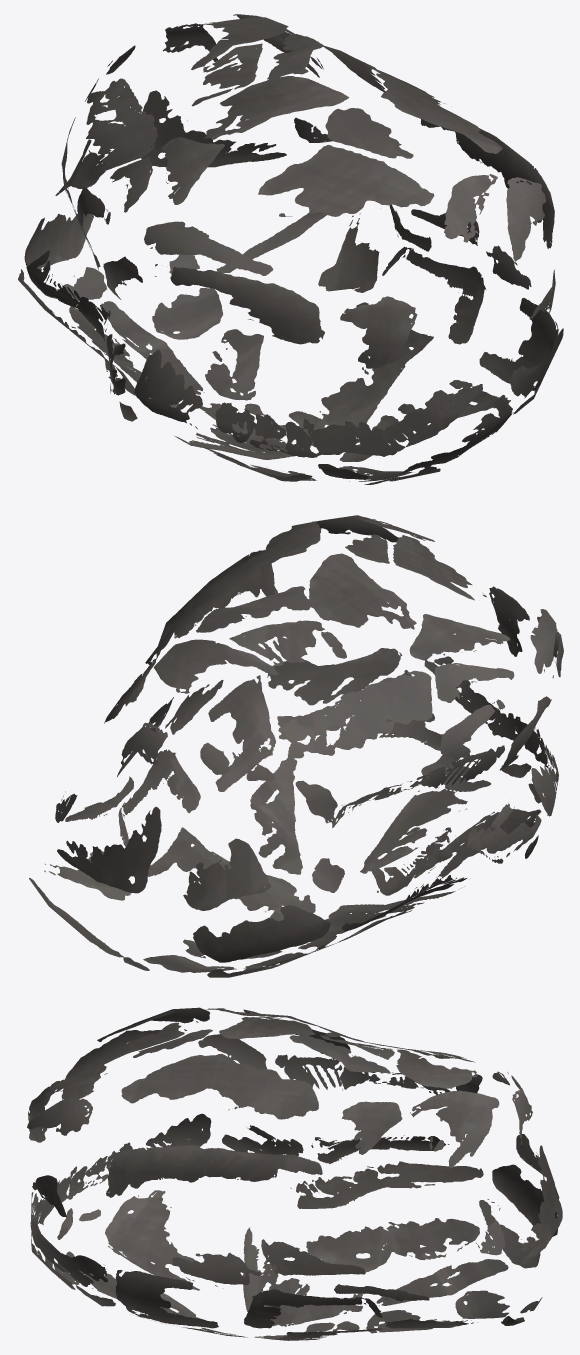
File: SM_ENV_LKNVLD_RockMiddle_A.FBX
3 renders of one model, top to bottom at view 1: azimuth 30°, elevation 25°; view 2: azimuth 150°, elevation 25°; view 3: azimuth 270°, elevation 25°, orthographic. The views are drawn at different scales.
Visible parts, largest first — view 1: SM_ENV_LKNVLD_RockMiddle_A; view 2: SM_ENV_LKNVLD_RockMiddle_A; view 3: SM_ENV_LKNVLD_RockMiddle_A.
Boxes of the visible parts, bbox=[...] form: SM_ENV_LKNVLD_RockMiddle_A: bbox=[18, 14, 563, 484]; SM_ENV_LKNVLD_RockMiddle_A: bbox=[29, 515, 563, 977]; SM_ENV_LKNVLD_RockMiddle_A: bbox=[27, 1007, 562, 1340].
Size of the model in its own units: 374 by 323 by 530.
